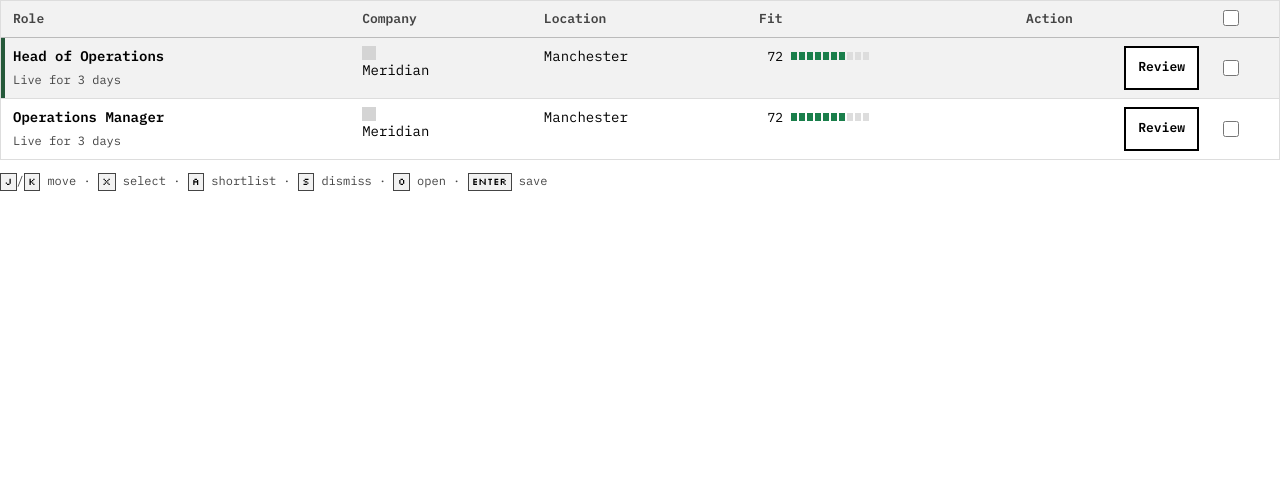
Test: shows a refusal that lands after the table was replaced beside the new one, which lists the row again
Press a
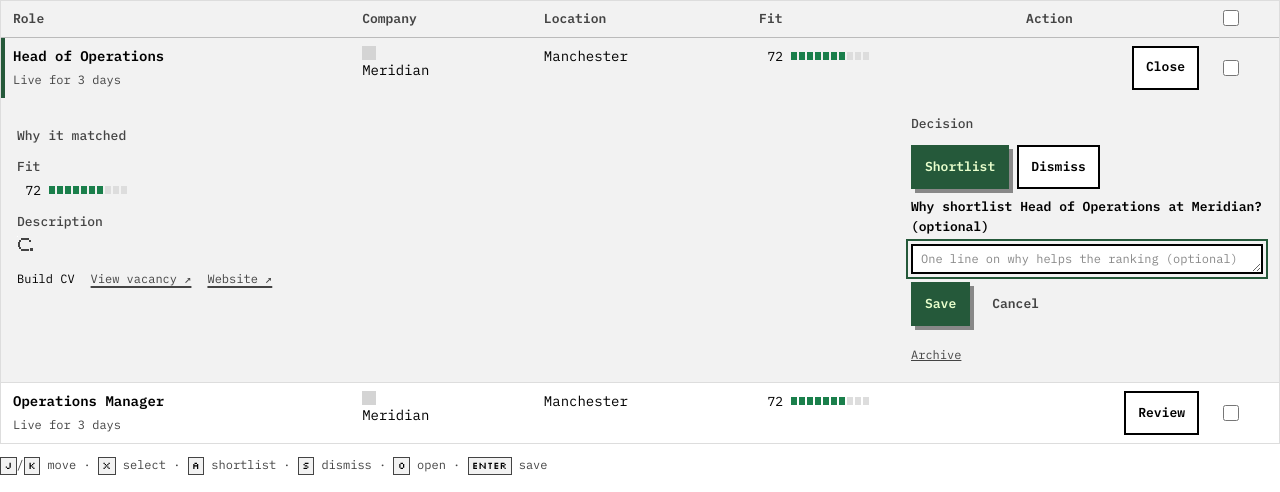
Press Enter in the text box labelled "Why shortlist Head of Operations at Meridian? (optional)", box x1=911 y1=244 x2=1263 y2=274
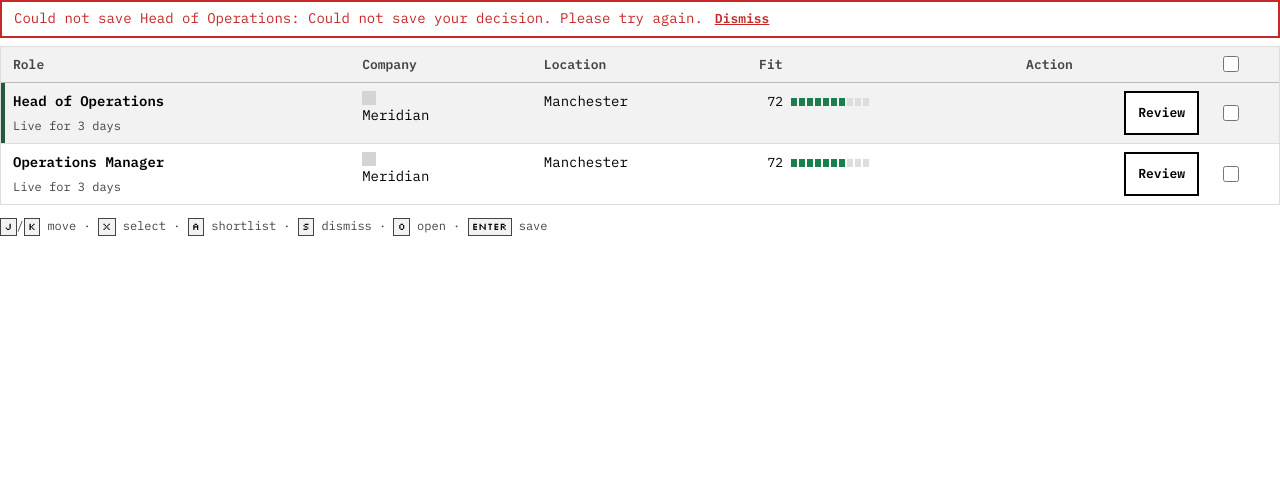
expect the text "Could not save Head of Operations: Could not save your decision. Please try again." is shown: met, box x1=14 y1=9 x2=703 y2=27
Click the button "Dismiss" at (742, 19), box x1=715 y1=9 x2=769 y2=29
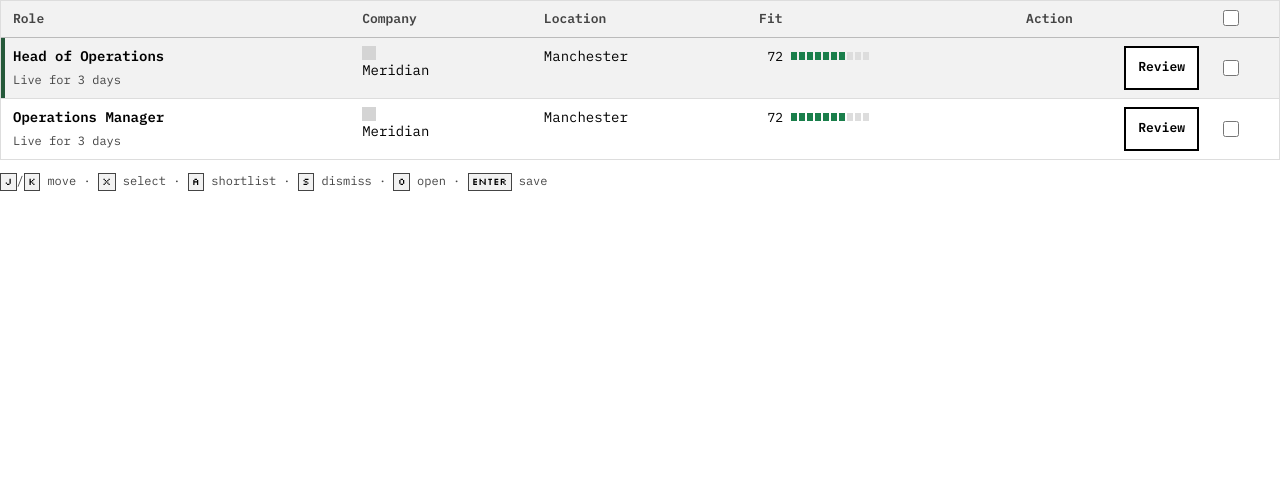
expect the text "Could not save Head of Operations" is gone: met
